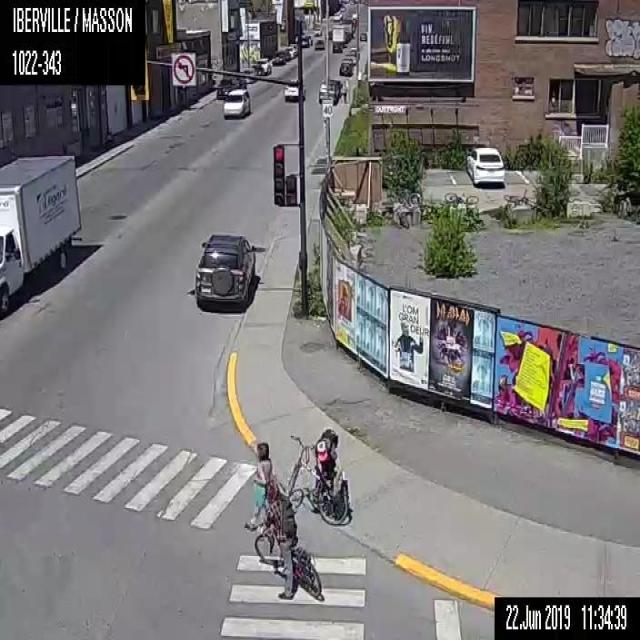cyclist: (251, 480, 322, 598), (285, 429, 349, 525)
pedestrian: (242, 441, 277, 535), (339, 78, 348, 104)
vehicle: (0, 151, 81, 317), (194, 231, 256, 309), (464, 144, 505, 188), (220, 87, 250, 119), (318, 77, 338, 105), (283, 78, 305, 101), (216, 78, 238, 98), (330, 27, 344, 53), (256, 55, 271, 75), (337, 60, 352, 76), (271, 51, 285, 65), (242, 68, 256, 82), (344, 50, 357, 63), (283, 45, 295, 57), (298, 36, 309, 48), (313, 39, 324, 50), (312, 26, 322, 37), (358, 31, 367, 41)
